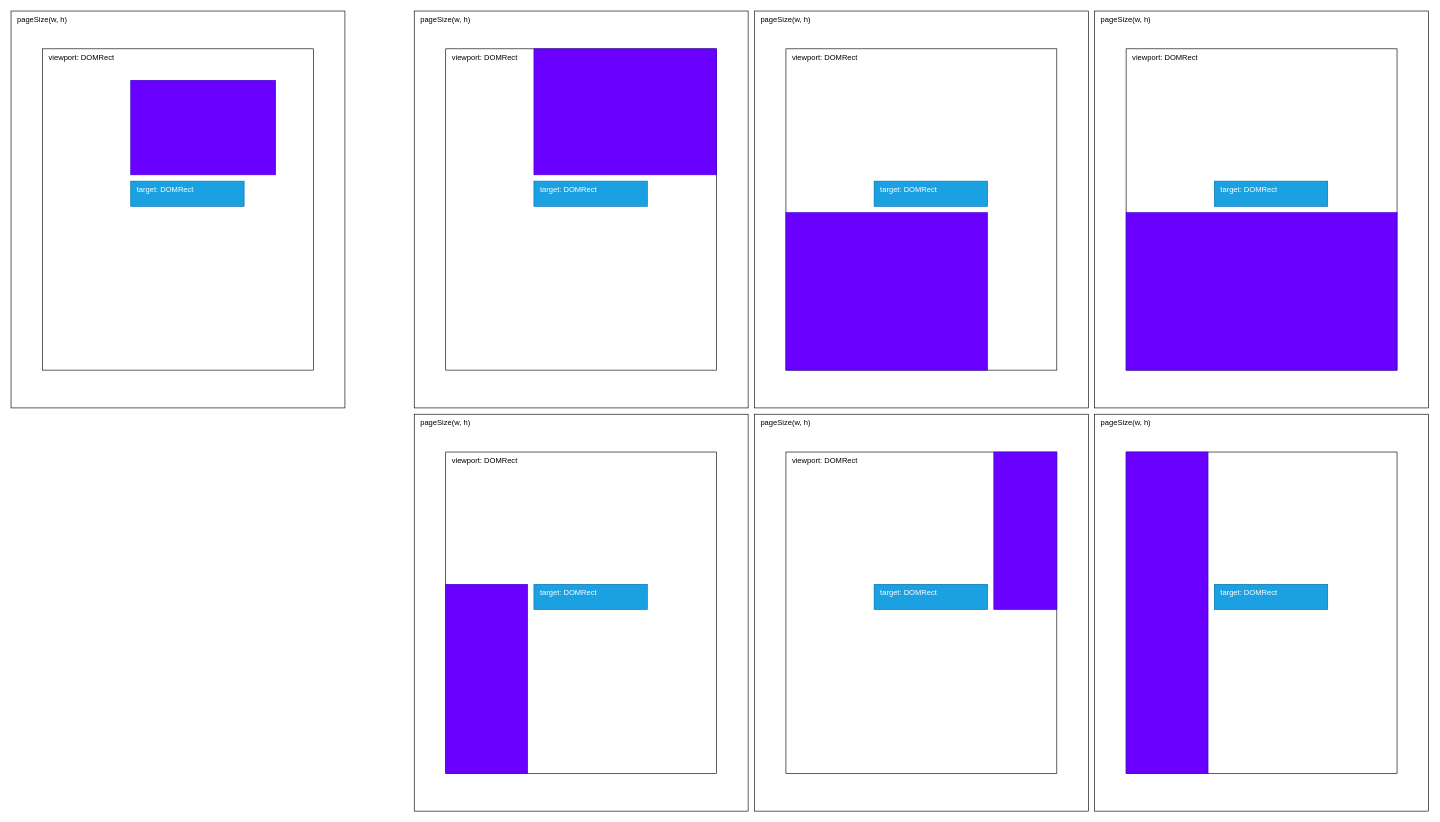
The diagram is 1440 pixels wide and 822 high, and some of its shapes have lost their labels. The box of each missing label's shape, as (x1, y1, x2, y2) in pixels:
available space: bottom-center: (1125, 212, 1397, 370)
available space: bottom-right: (785, 212, 988, 370)
available space: left-bottom: (445, 584, 528, 773)
available space: left-center: (1125, 451, 1208, 773)
available space: right-top: (993, 451, 1057, 610)
available space: top-left: (533, 48, 717, 175)
content: DOMRect: (130, 80, 276, 175)
